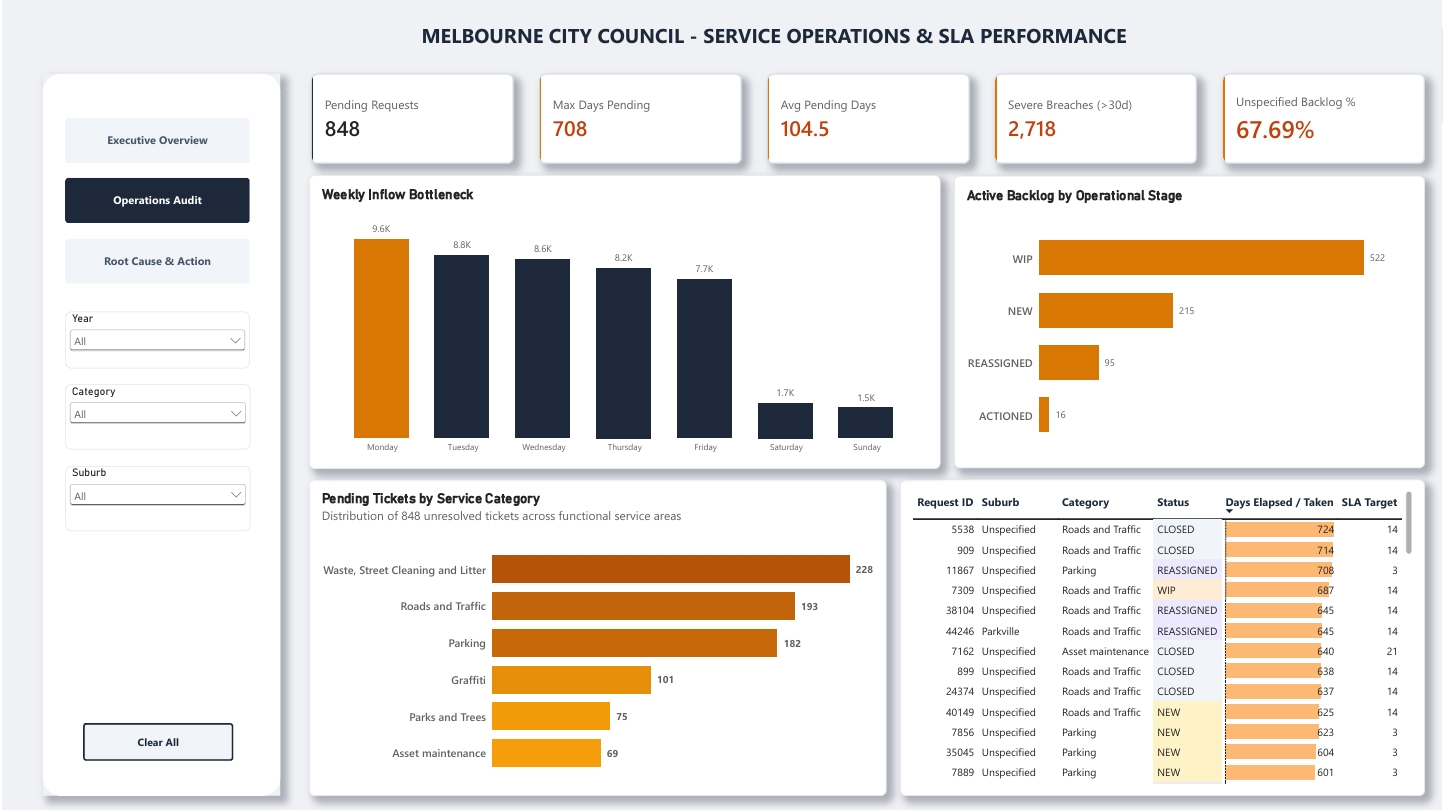

The page's visual inventory and layout, read from the dashboard file:
{"tool":"powerbi","page":{"name":"Operation Audit","canvas":[1920,1080],"ordinal":1},"visuals":[{"type":"shape","box":[53.3,96.7,316.7,963.3],"z":0},{"type":"textbox","box":[526.9,26.9,1001.9,50],"z":1000},{"type":"slicer","fields":{"Values":["dim_date.year"]},"box":[83,414,246.2,76.2],"z":2000},{"type":"slicer","fields":{"Values":["dim_category.category"]},"box":[83,511,246.7,86.7],"z":3000},{"type":"slicer","fields":{"Values":["dim_suburb.suburb_name"]},"box":[83,620,246.7,86.7],"z":4000},{"type":"cardVisual","fields":{"Data":["_Measures.Pending Requests"]},"box":[410.8,97.1,270,120],"z":5000},{"type":"cardVisual","fields":{"Data":["_Measures.Max Days Pending"]},"box":[714.7,97.1,270,120],"z":6000},{"type":"cardVisual","fields":{"Data":["_Measures.Avg Pending Ageing"]},"box":[1018.6,97.1,270,120],"z":7000},{"type":"cardVisual","fields":{"Data":["_Measures.Severe Breaches"]},"box":[1322.5,97.1,270,120],"z":8000},{"type":"cardVisual","fields":{"Data":["_Measures.Unspecified Backlog %"]},"box":[1626.4,97.1,270,120],"z":9000},{"type":"clusteredBarChart","title":"Active Backlog by Operational Stage","fields":{"Category":["fact_service_requests.request_status"],"Y":["_Measures.Pending Requests"]},"box":[1267.5,232.7,628.8,390.4],"z":11000},{"type":"clusteredBarChart","title":"Pending Tickets by Service Category","fields":{"Category":["dim_category.category"],"Y":["_Measures.Pending Requests"]},"box":[407.5,637.5,770,422.5],"z":12000},{"type":"tableEx","title":"Avg Resolution Days vs SLA Target","fields":{"Values":["fact_service_requests.request_id","dim_suburb.suburb_name","dim_category.category","fact_service_requests.request_status","fact_service_requests.days_to_complete","fact_service_requests.sla_target_days"]},"box":[1196.2,637.5,700,422.5],"z":13000},{"type":"clusteredColumnChart","title":"Weekly Inflow Bottleneck","fields":{"Category":["dim_date.day_of_week"],"Y":["_Measures.Total Requests"]},"box":[408,232,842,392],"z":14000},{"type":"actionButton","box":[83,236,246,60],"z":15000},{"type":"actionButton","box":[83,156,246,60],"z":16000},{"type":"actionButton","box":[83,317,246,60],"z":16001},{"type":"actionButton","box":[106.7,963.3,200,50],"z":16002}]}

Visuals, with their boxes in screenshot pixels (x1, y1, x2, y2), scaled from the page's 1920x1080 canvas onto the 1445x811 screenshot:
shape: (40,73,278,796)
textbox: (397,20,1151,58)
slicer - dim_date.year: (62,311,248,368)
slicer - dim_category.category: (62,384,248,449)
slicer - dim_suburb.suburb_name: (62,466,248,531)
cardVisual - _Measures.Pending Requests: (309,73,512,163)
cardVisual - _Measures.Max Days Pending: (538,73,741,163)
cardVisual - _Measures.Avg Pending Ageing: (767,73,970,163)
cardVisual - _Measures.Severe Breaches: (995,73,1199,163)
cardVisual - _Measures.Unspecified Backlog %: (1224,73,1427,163)
"Active Backlog by Operational Stage" clusteredBarChart: (954,175,1427,468)
"Pending Tickets by Service Category" clusteredBarChart: (307,479,886,796)
"Avg Resolution Days vs SLA Target" tableEx: (900,479,1427,796)
"Weekly Inflow Bottleneck" clusteredColumnChart: (307,174,941,469)
actionButton: (62,177,248,222)
actionButton: (62,117,248,162)
actionButton: (62,238,248,283)
actionButton: (80,723,231,761)
